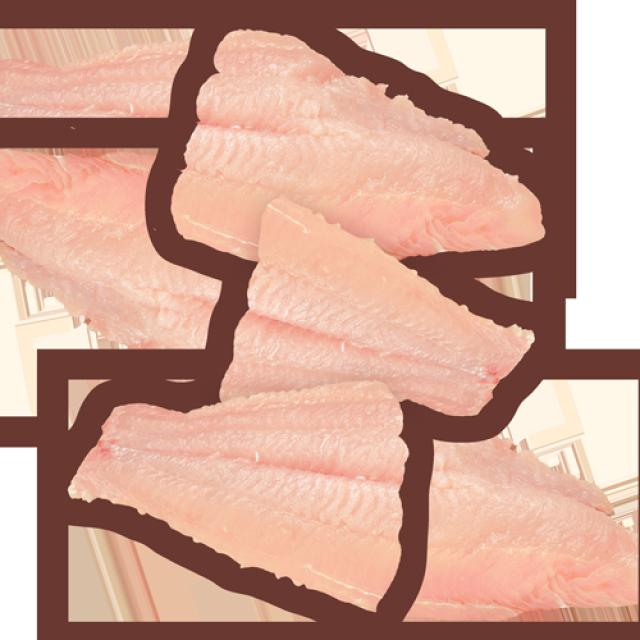Catfish: (168, 19, 550, 262), (66, 374, 414, 605), (218, 190, 534, 437)
